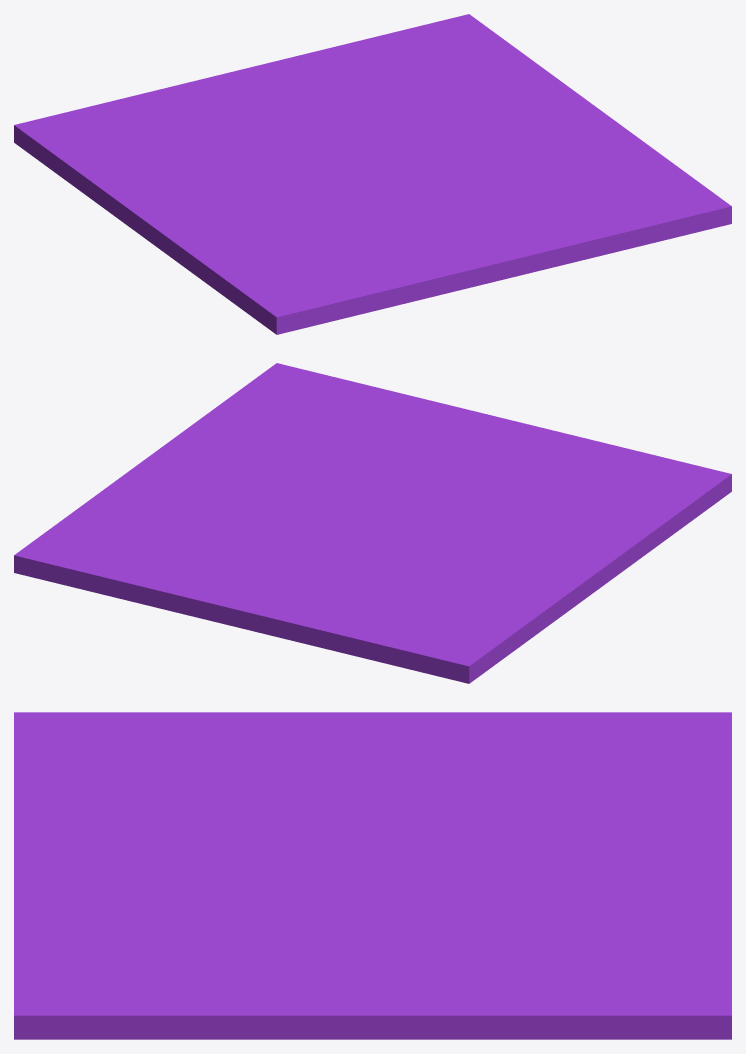
Rendered from Platform_43_chunks.fbx.
3 renders of one model, top to bottom at view 1: azimuth 30°, elevation 25°; view 2: azimuth 150°, elevation 25°; view 3: azimuth 270°, elevation 25°, orthographic. The views are drawn at different scales.
Parts seen in each view (by area): view 1: Platform_43_6, Platform_43_1, Platform_43_9, Platform_43_12, Platform_43_10, Platform_43_8, Platform_43_13, Platform_43_14, Platform_43_17, Platform_43_18, Platform_43_2, Platform_43_19 (+7 smaller); view 2: Platform_43_1, Platform_43_6, Platform_43_9, Platform_43_12, Platform_43_10, Platform_43_13, Platform_43_14, Platform_43_8, Platform_43_17, Platform_43_18, Platform_43_2, Platform_43_15 (+5 smaller); view 3: Platform_43_1, Platform_43_6, Platform_43_9, Platform_43_12, Platform_43_10, Platform_43_13, Platform_43_8, Platform_43_2, Platform_43_17, Platform_43_14, Platform_43_18, Platform_43_3 (+6 smaller).
Boxes of the visible parts, box(x1,y1,x2,y2) form: Platform_43_6: box(153, 224, 434, 334); Platform_43_1: box(301, 14, 531, 129); Platform_43_9: box(76, 166, 396, 225); Platform_43_12: box(398, 95, 669, 186); Platform_43_10: box(538, 161, 731, 265); Platform_43_8: box(346, 183, 535, 297); Platform_43_13: box(366, 146, 550, 266); Platform_43_14: box(14, 92, 179, 170); Platform_43_17: box(176, 55, 308, 139); Platform_43_18: box(80, 142, 354, 171); Platform_43_2: box(481, 60, 626, 135); Platform_43_19: box(119, 111, 308, 160); Platform_43_1: box(14, 509, 293, 610); Platform_43_6: box(509, 435, 731, 574); Platform_43_9: box(377, 495, 586, 637); Platform_43_12: box(174, 408, 327, 515); Platform_43_10: box(215, 363, 467, 438); Platform_43_13: box(319, 410, 480, 517); Platform_43_14: box(335, 604, 515, 683); Platform_43_8: box(397, 413, 573, 496); Platform_43_17: box(171, 565, 405, 614); Platform_43_18: box(359, 521, 530, 619); Platform_43_2: box(77, 440, 190, 510); Platform_43_15: box(184, 608, 362, 657); Platform_43_1: box(438, 869, 731, 1039); Platform_43_6: box(14, 712, 352, 817); Platform_43_9: box(225, 712, 558, 863); Platform_43_12: box(182, 890, 496, 1016); Platform_43_10: box(14, 888, 192, 1019); Platform_43_13: box(14, 860, 410, 937); Platform_43_8: box(14, 809, 305, 879); Platform_43_2: box(294, 966, 578, 1039); Platform_43_17: box(564, 790, 731, 903); Platform_43_14: box(605, 712, 731, 802); Platform_43_18: box(384, 713, 559, 854); Platform_43_3: box(14, 1004, 319, 1039).
Bounding box in the file's own units: 810 × 29.87 × 810.
